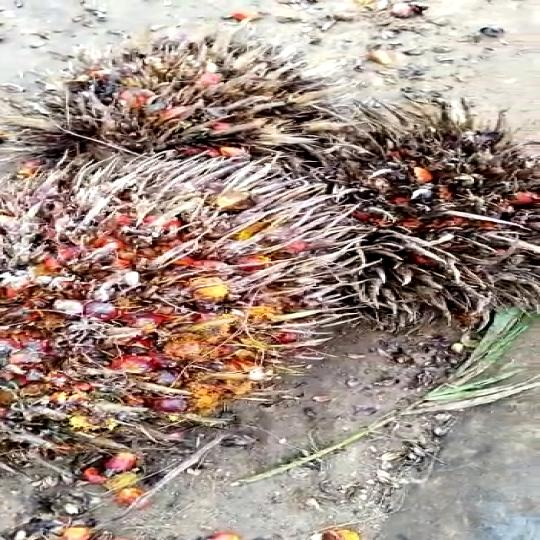terlalu masak: (0, 168, 394, 446), (289, 120, 534, 305), (39, 41, 327, 167)
